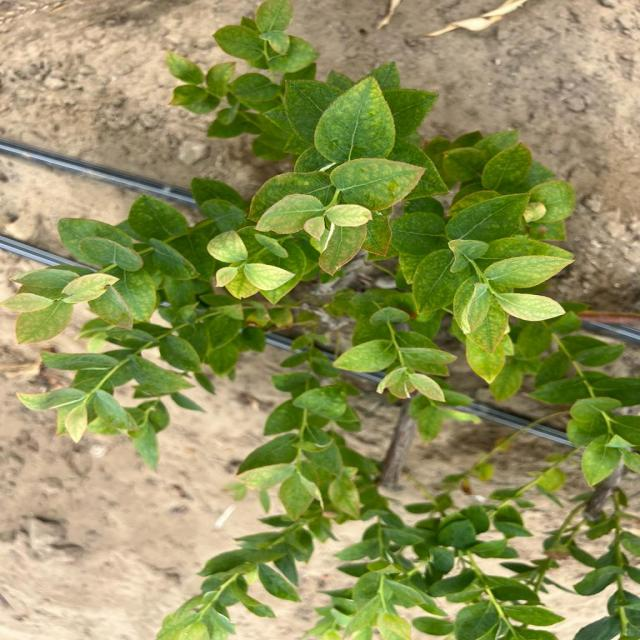Hojas sanas sin oidiosis: (311, 73, 396, 172), (281, 75, 356, 156), (345, 86, 441, 146), (329, 156, 428, 212), (443, 192, 529, 248), (409, 247, 475, 317), (481, 253, 577, 289), (251, 191, 327, 235), (78, 234, 144, 274), (492, 290, 568, 322), (350, 204, 392, 259), (241, 260, 297, 290), (204, 229, 248, 262), (320, 203, 376, 228)
